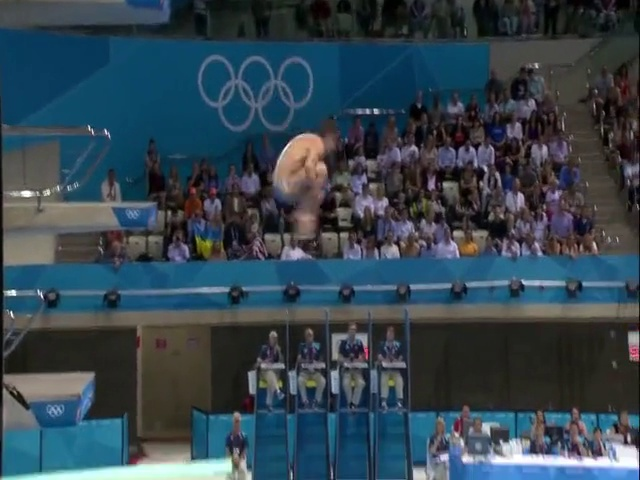diver: (272, 119, 340, 236)
